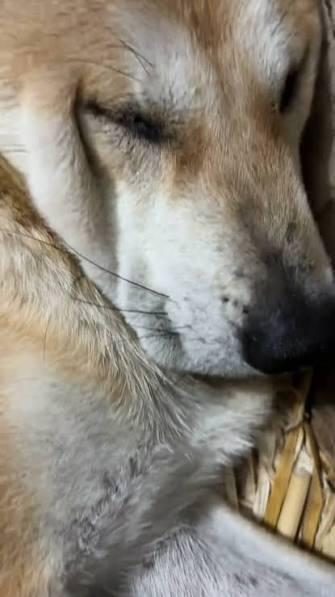adult_dog: (1, 0, 335, 592)
